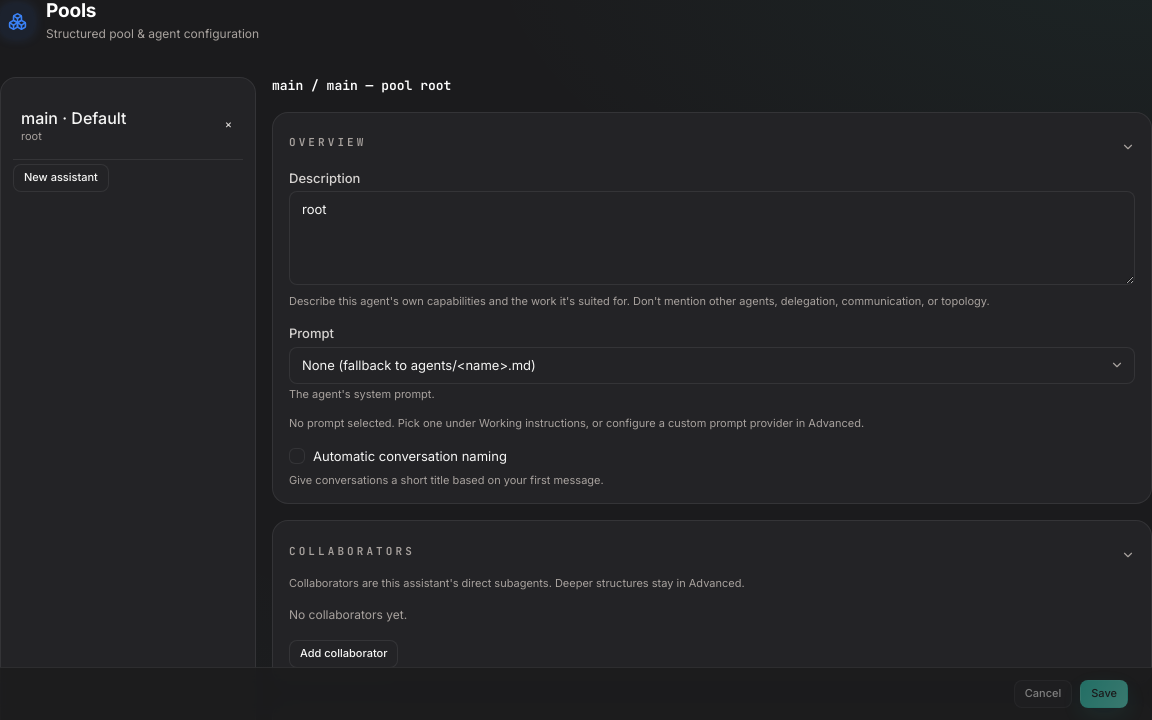
Test: PoolsConfigView save › blocks deleting the preferred default assistant with a change-default-first notice (PA-15)
What coordinates should you click on to do the following:
click the button named "Delete main"
I would click on:
 (228, 124)
Its box is [214, 110, 243, 138].
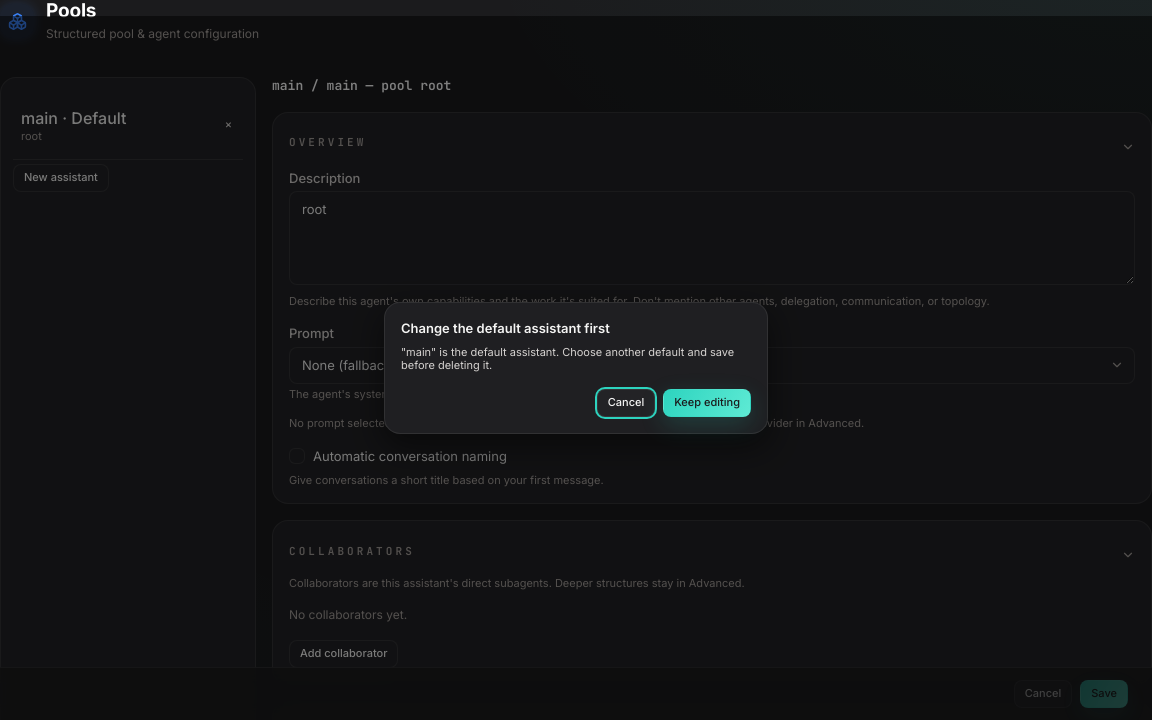
Check: the heading "Change the default assistant first" is shown, box [401, 320, 610, 336]
Check: the text "\"main\" is the default assistant. Choose another default and save before deleting it." is shown, box [401, 345, 734, 372]
